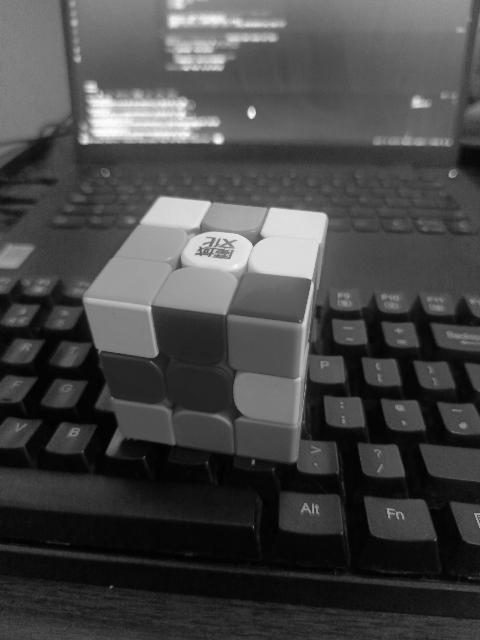rubik: (82, 194, 328, 463)
